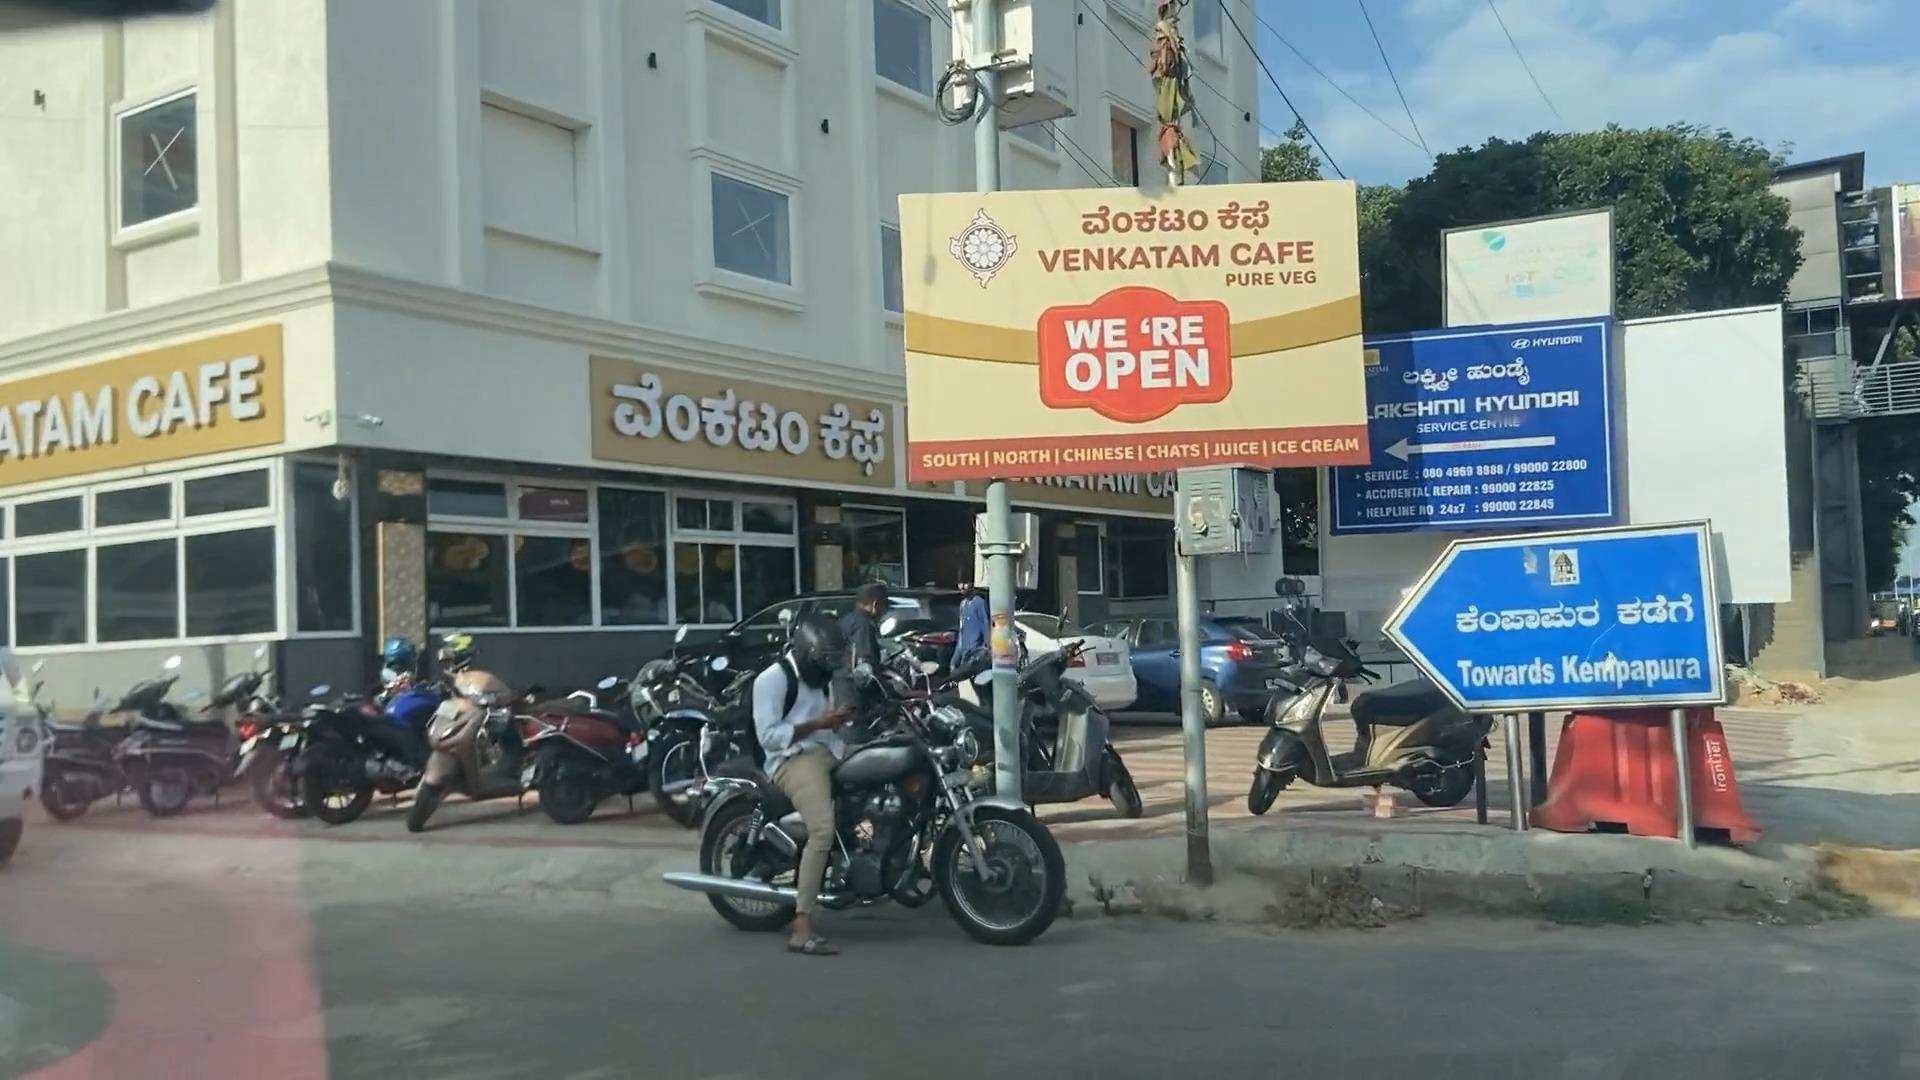LMV: (727, 620, 1054, 935), (285, 657, 382, 818), (425, 665, 512, 825)
